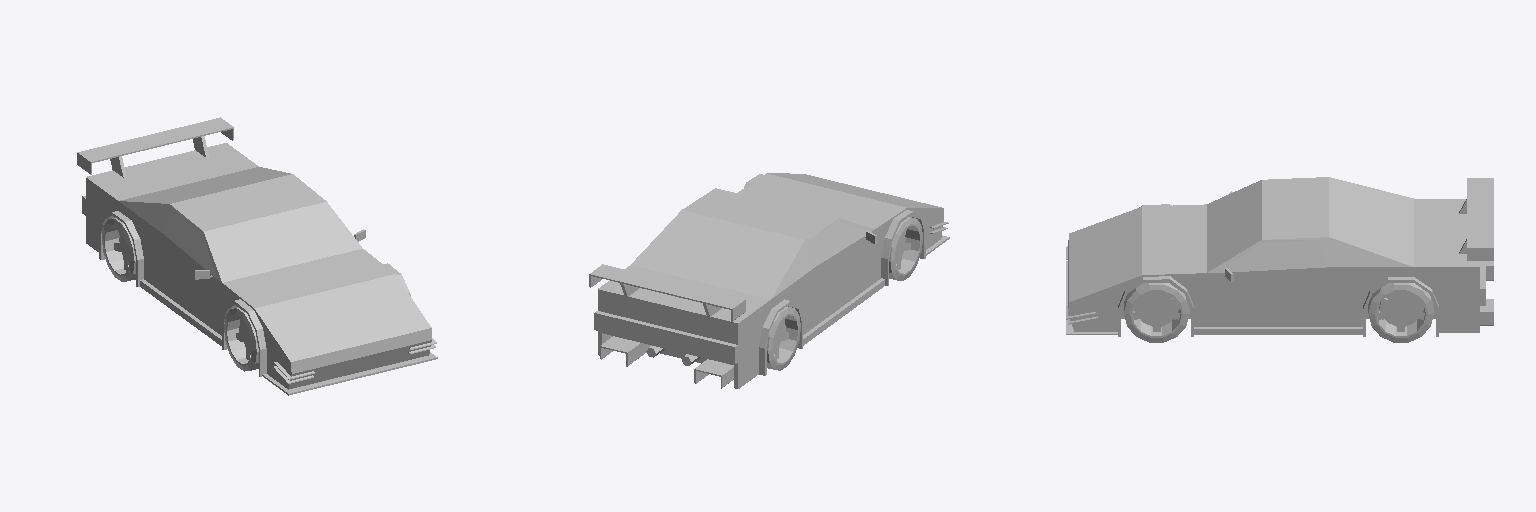
File: NSX.obj
3 renders of one model, left to right at view 1: azimuth 30°, elevation 25°; view 2: azimuth 150°, elevation 25°; view 3: azimuth 270°, elevation 25°, orthographic.
Parts seen in each view (by area): view 1: Cube.015_Cube, Cylinder.034_Cylinder.003, Cylinder.032_Cylinder.003; view 2: Cube.015_Cube, Cylinder.032_Cylinder.003, Cylinder.034_Cylinder.003; view 3: Cube.015_Cube, Cylinder.033_Cylinder.003, Cylinder.040_Cylinder.003.
Boxes of the visible parts, <box> form: Cube.015_Cube: <box>77,117,437,395</box>; Cylinder.034_Cylinder.003: <box>102,218,135,281</box>; Cylinder.032_Cylinder.003: <box>224,307,258,371</box>; Cube.015_Cube: <box>589,173,949,388</box>; Cylinder.032_Cylinder.003: <box>889,217,922,280</box>; Cylinder.034_Cylinder.003: <box>767,306,800,370</box>; Cube.015_Cube: <box>1066,177,1493,336</box>; Cylinder.033_Cylinder.003: <box>1368,283,1433,342</box>; Cylinder.040_Cylinder.003: <box>1124,283,1189,342</box>.
Bounding box in the file's own units: 2.08 × 1.14 × 4.53.